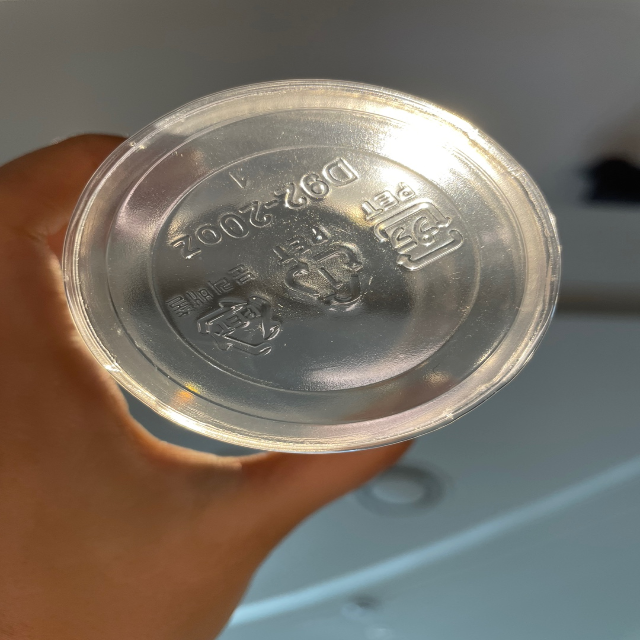pet: (165, 260, 282, 360), (352, 179, 466, 272), (271, 228, 369, 312)
